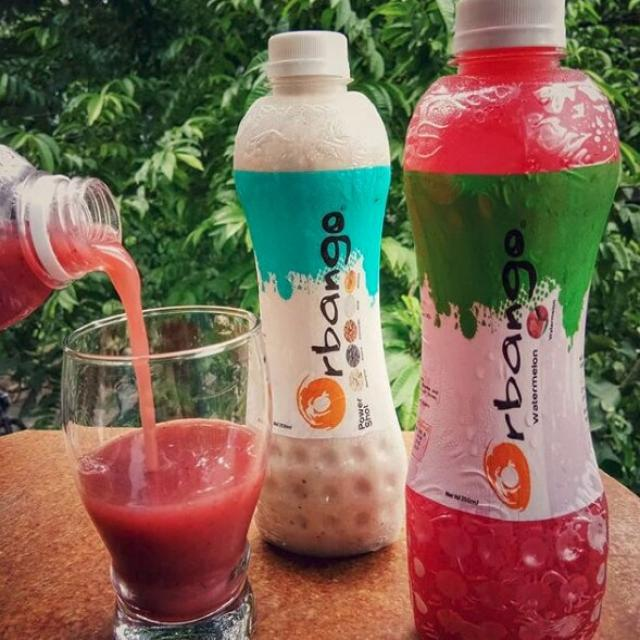glass: (40, 260, 306, 631)
plastic_bottle: (399, 0, 639, 639), (229, 20, 418, 563)
